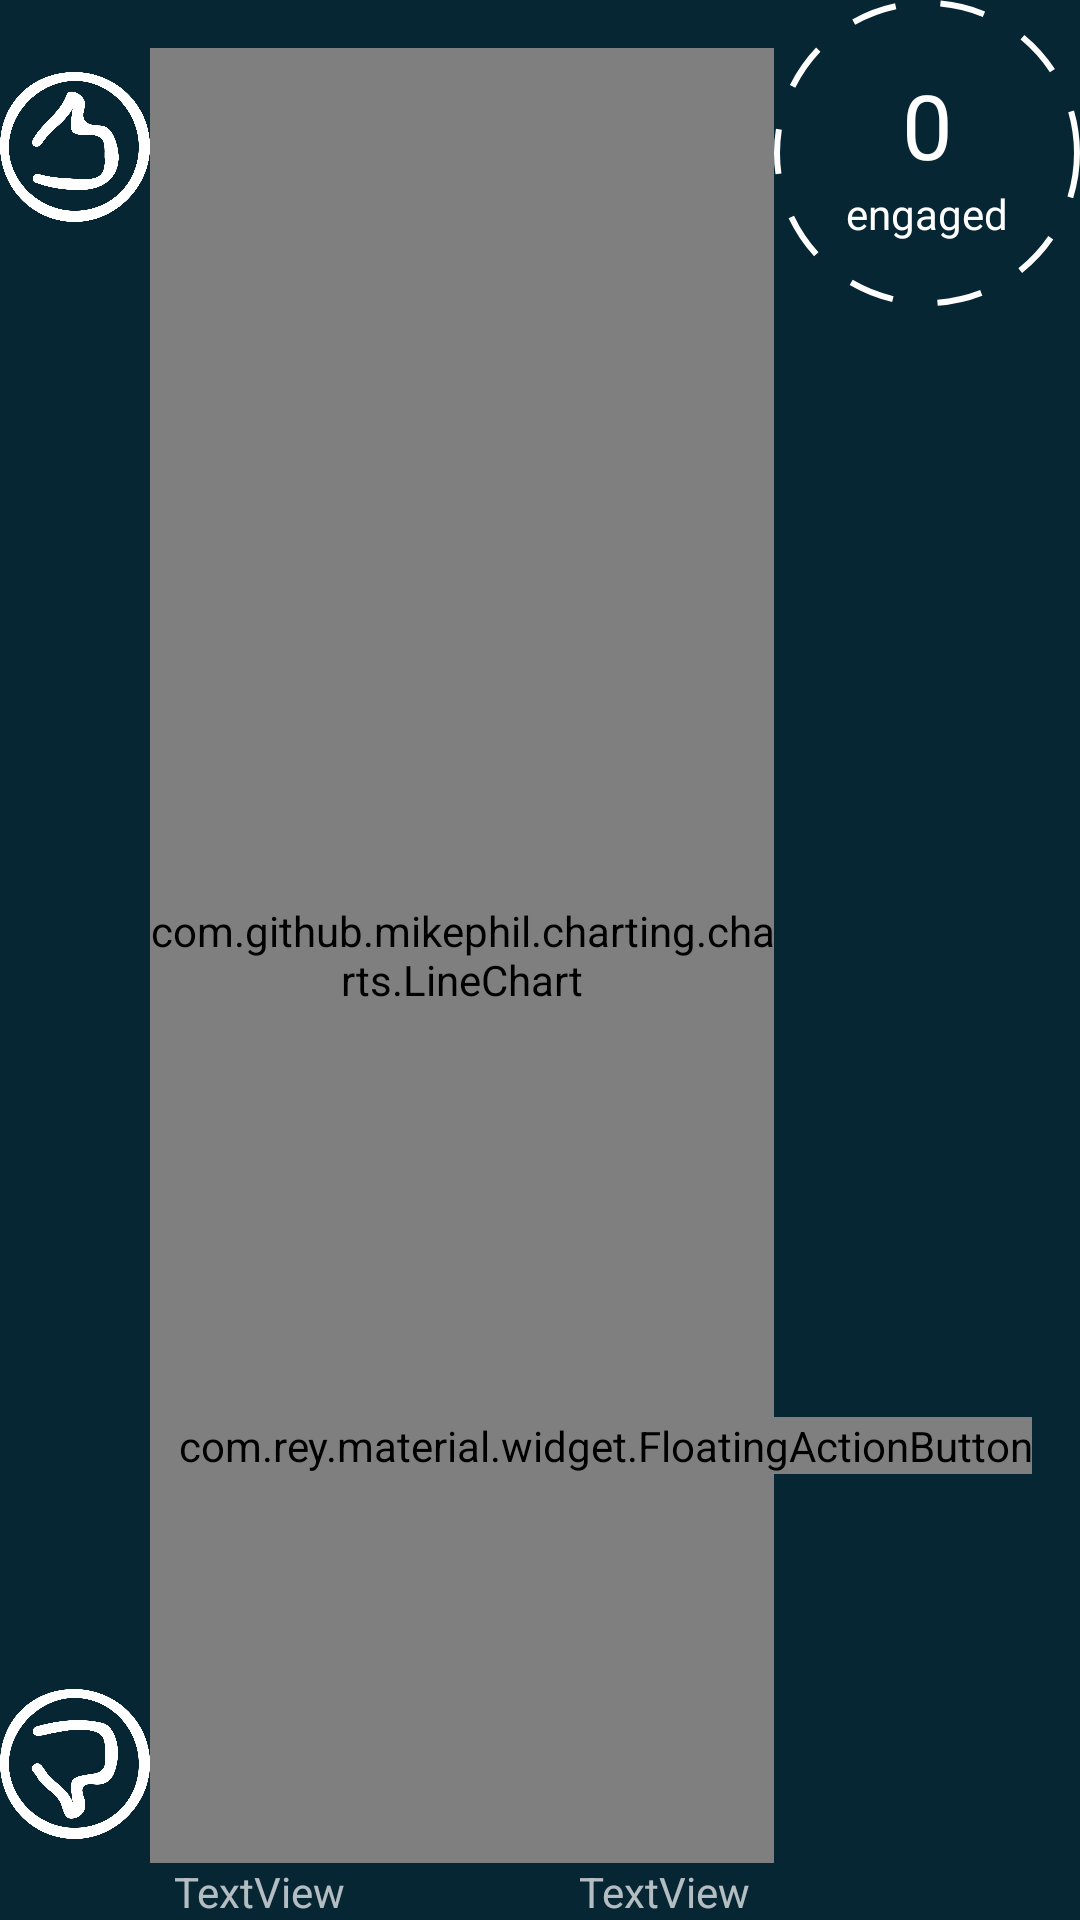

Screen size 1080*1920. Icon name, then its center in pixels as [x,y]:
thumbs down: [75,1764]
thumbs up: [75,147]
